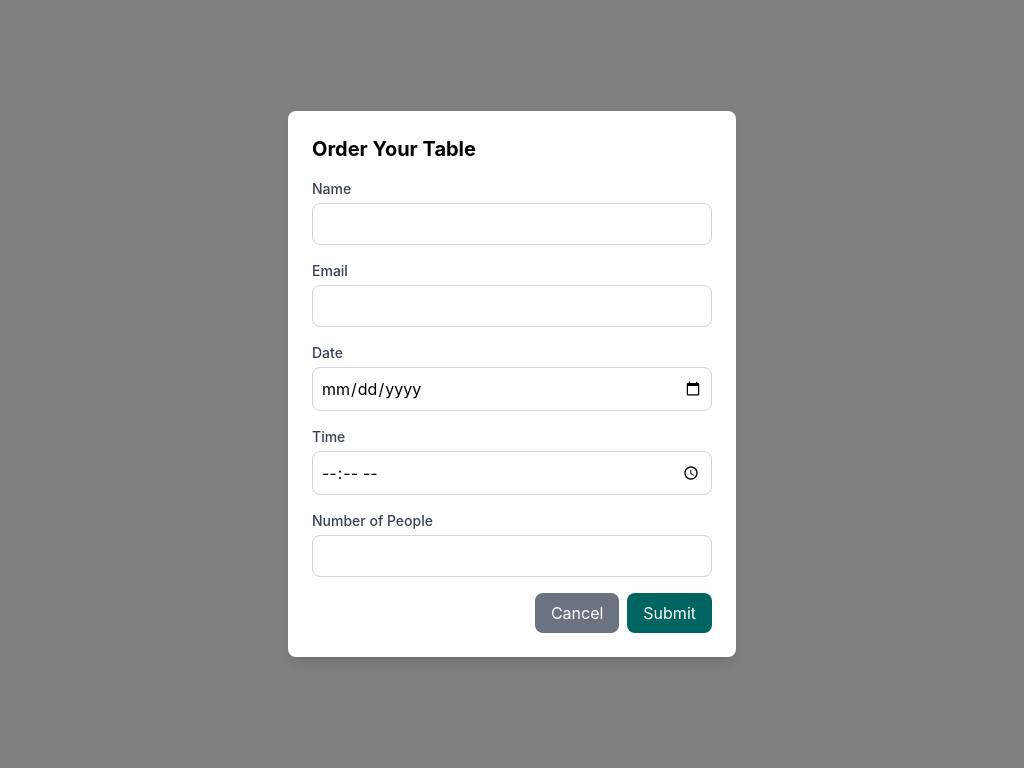
it: OrderingForm › validates required fields and shows error messages
The image size is (1024, 768).
Click the button "Submit": point(670, 613) [627,593,712,633]
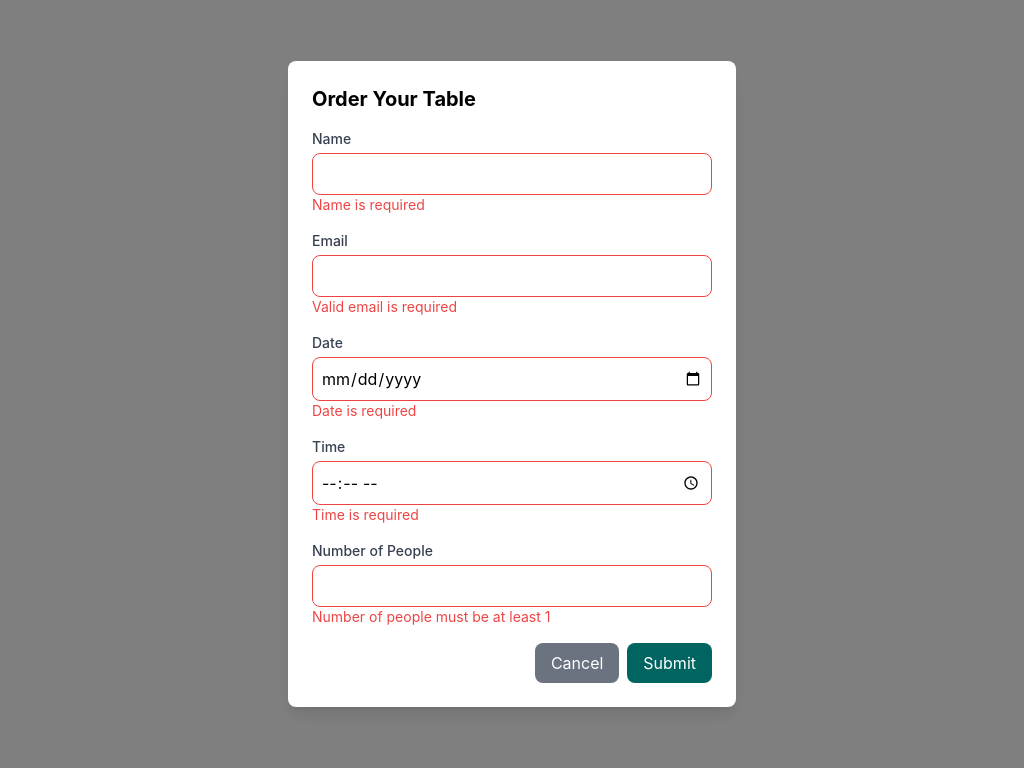
Now the text "Name is required" is shown, box [312,196,425,213]
Now the text "Valid email is required" is shown, box [312,298,457,315]
Now the text "Date is required" is shown, box [312,402,416,419]
